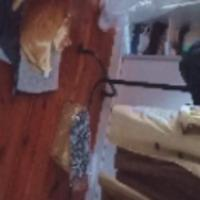asleep: (16, 0, 73, 78)
